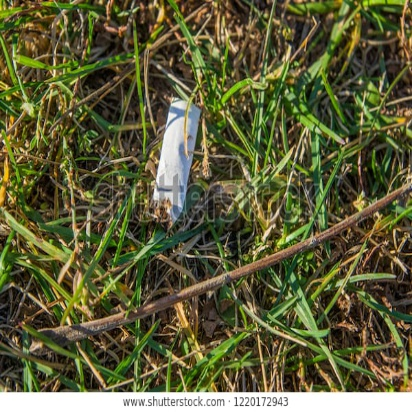cigarette: (148, 92, 203, 225)
